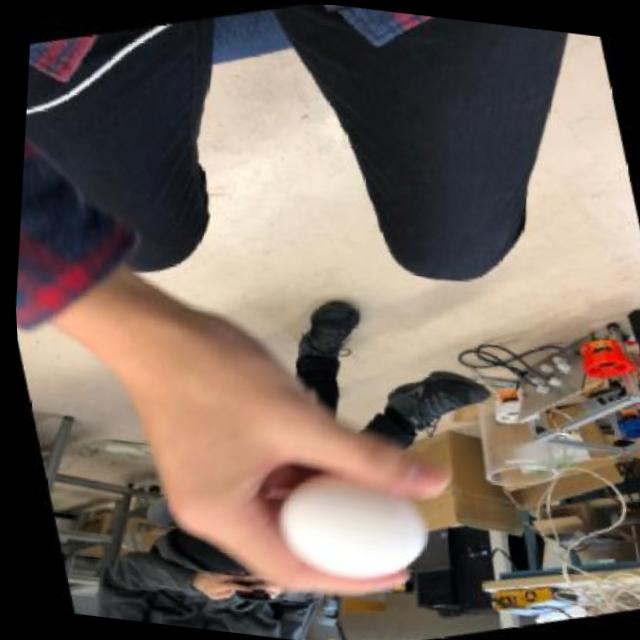egg: (260, 463, 430, 593)
